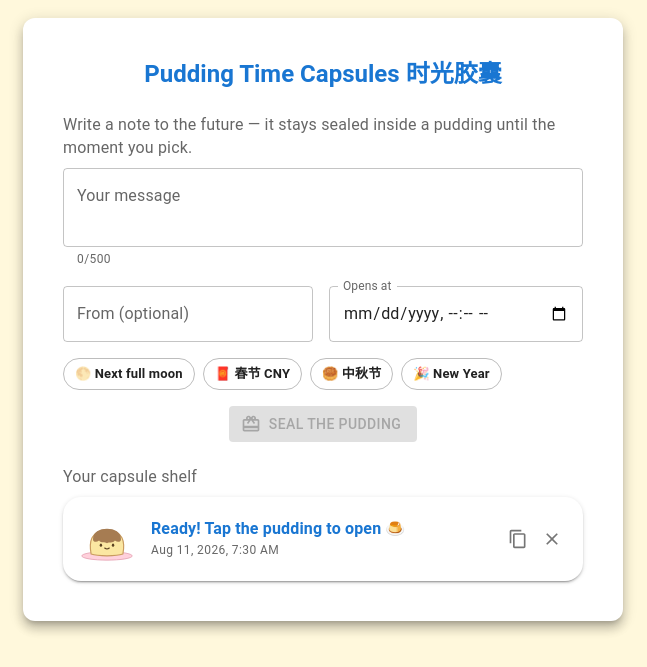
Scenario: Capsules › opens a ready capsule with sprinkles and the message
The width and height of the screenshot is (647, 667).
Expected: the text "Ready! Tap the pudding to open 🍮" is shown, [151, 519, 406, 538]
Click the button named "Open this capsule" at (107,539), box [79, 513, 135, 564]
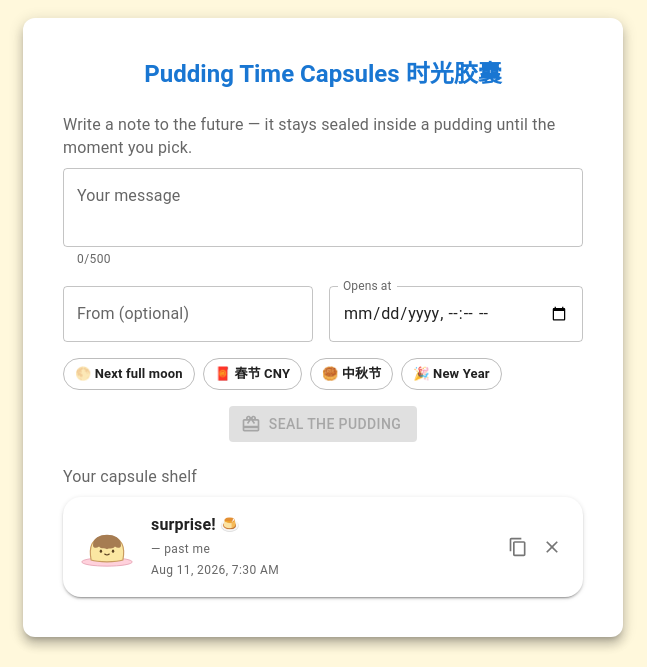
Now the text "surprise! 🍮" is shown, box [151, 515, 240, 534]
Now the text "— past me" is shown, box [151, 542, 210, 556]
